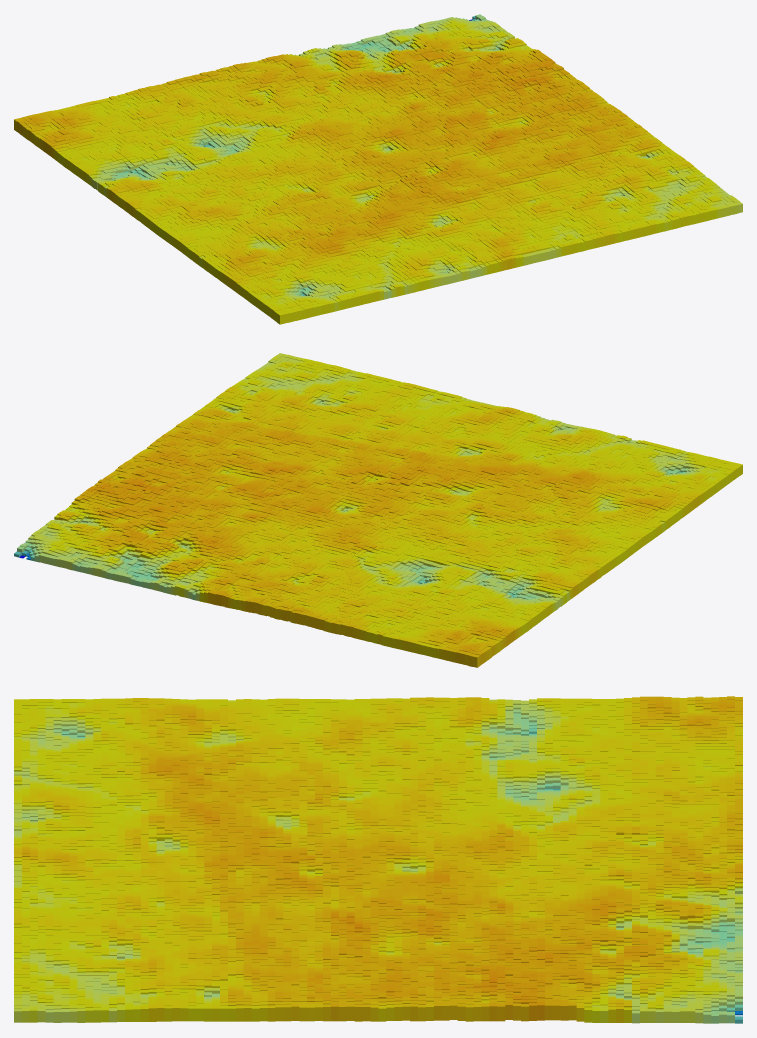
File: population.glb
3 views of the same model, one above another, from view 1: azimuth 30°, elevation 25°; view 2: azimuth 150°, elevation 25°; view 3: azimuth 270°, elevation 25° (orthographic). The views are drawn at different scales.
Visible parts, largest first — view 1: population; view 2: population; view 3: population.
Part boxes in pixels (x1,y1,x2,y2): population: (14, 14, 742, 324); population: (14, 353, 742, 667); population: (14, 696, 742, 1023).
Size of the model in its own units: 9232 by 275 by 9169.
